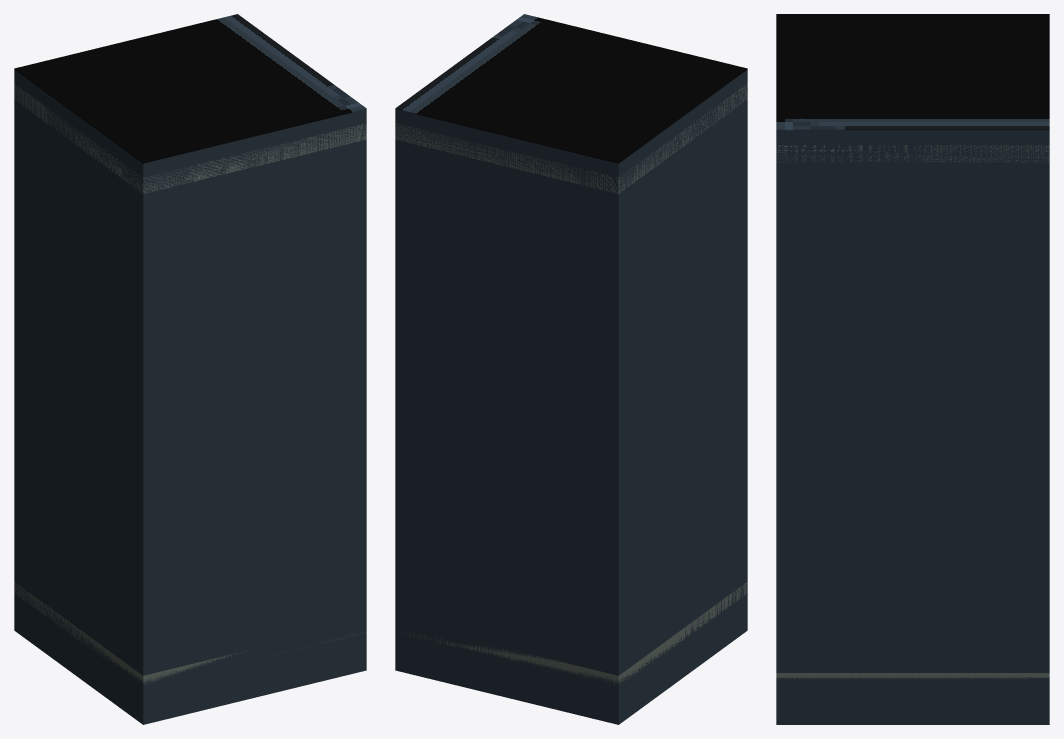
Rendered from CMU3DInteriorVehicleBoxVanBack1.glb.
The picture shows the model from 3 angles, left to right: view 1: azimuth 30°, elevation 25°; view 2: azimuth 150°, elevation 25°; view 3: azimuth 270°, elevation 25°; orthographic projection. The views are drawn at different scales.
Parts seen in each view (by area): view 1: cabin bulkhead, cabin bulkhead source finish, upper armor trim, lower armor trim; view 2: cabin bulkhead, cabin bulkhead source finish, upper armor trim, lower armor trim; view 3: cabin bulkhead, cabin bulkhead source finish, lower armor trim, upper armor trim.
Boxes of the visible parts, left/top/right/bottom form: cabin bulkhead: left=14, top=69, right=366, bottom=724; cabin bulkhead source finish: left=14, top=14, right=366, bottom=163; upper armor trim: left=14, top=83, right=366, bottom=193; lower armor trim: left=14, top=582, right=366, bottom=684; cabin bulkhead: left=395, top=69, right=747, bottom=724; cabin bulkhead source finish: left=395, top=14, right=747, bottom=163; upper armor trim: left=395, top=83, right=747, bottom=193; lower armor trim: left=401, top=582, right=747, bottom=684; cabin bulkhead: left=776, top=130, right=1049, bottom=724; cabin bulkhead source finish: left=776, top=14, right=1049, bottom=130; lower armor trim: left=776, top=673, right=1049, bottom=679; upper armor trim: left=776, top=145, right=1049, bottom=162.
Size of the model in its own units: 1 by 2.4 by 1.
4 materials, 1 textured.
